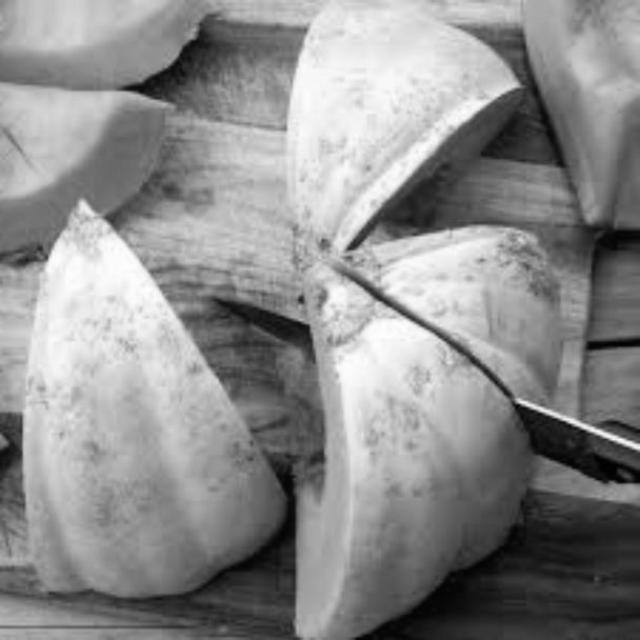bi ngo: (261, 224, 581, 639), (22, 194, 306, 592), (278, 0, 529, 267), (0, 73, 176, 264), (513, 0, 640, 257), (1, 0, 233, 103)
